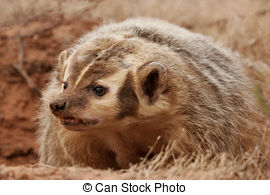badger: (39, 15, 269, 169)
